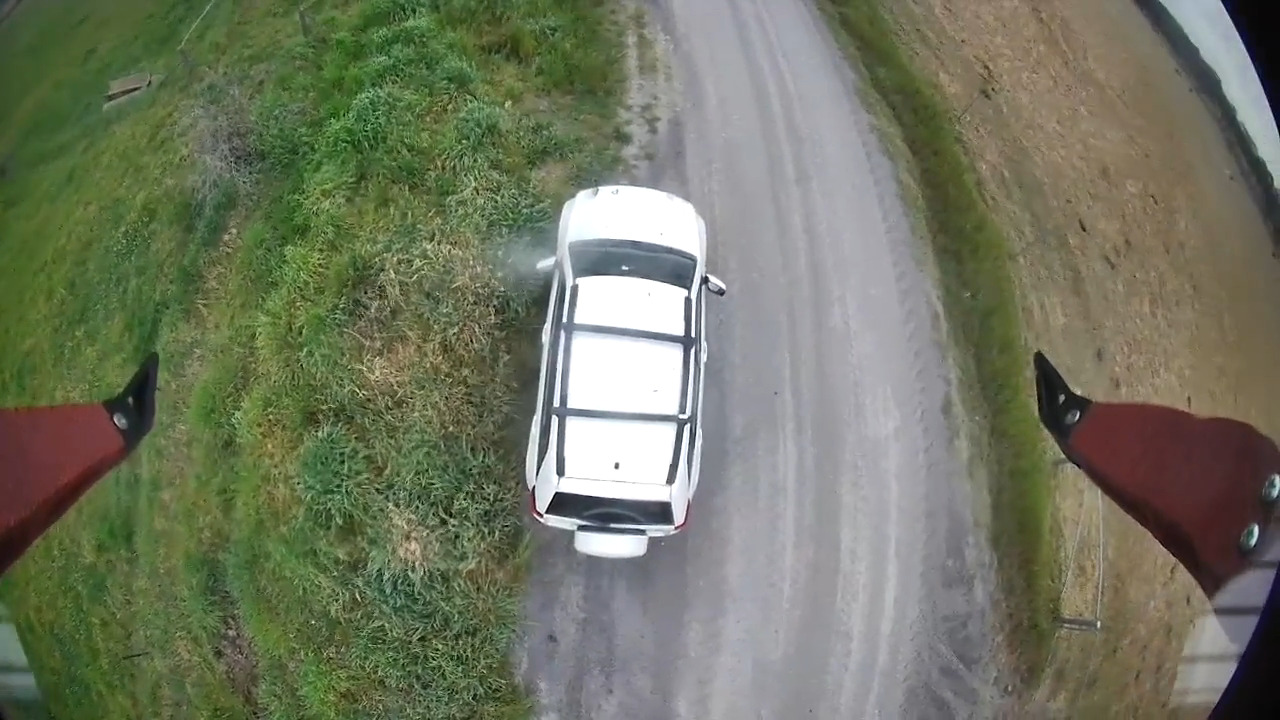Car: (524, 184, 726, 558)
